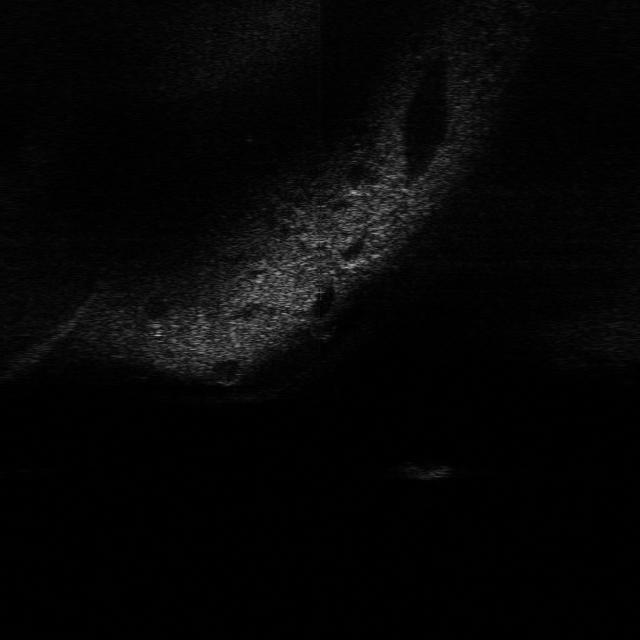ball: (308, 316, 341, 342)
cube: (390, 461, 456, 481)
